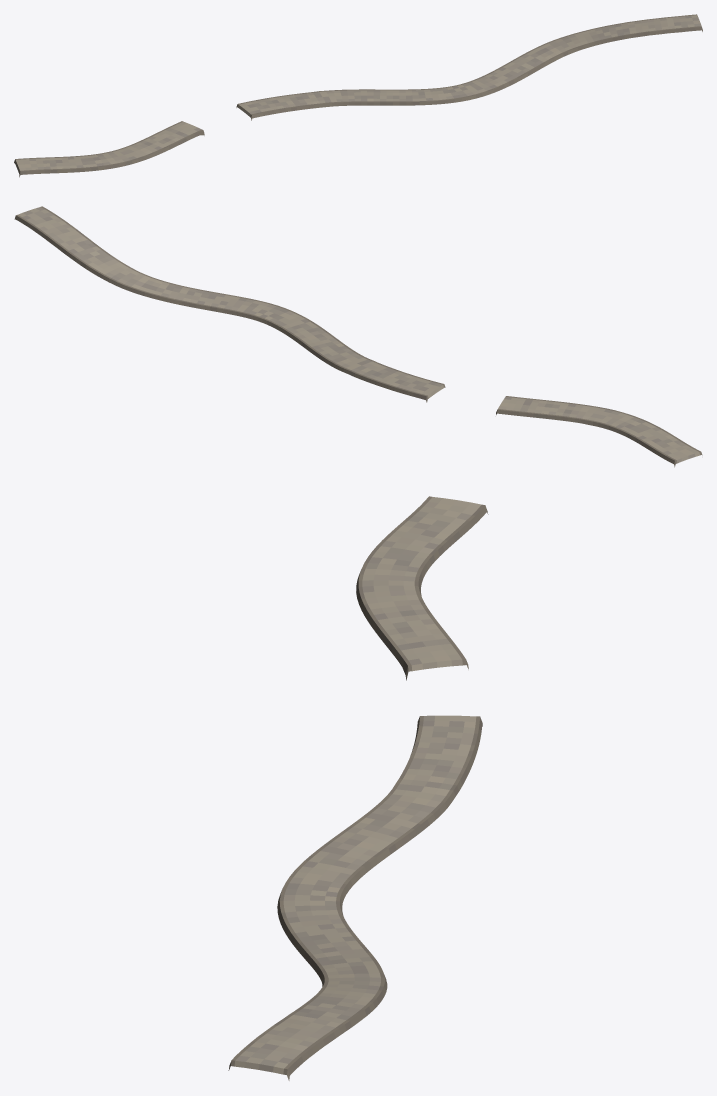
Rendered from road_east_road.glb.
3 renders of one model, top to bottom at view 1: azimuth 30°, elevation 25°; view 2: azimuth 150°, elevation 25°; view 3: azimuth 270°, elevation 25°, orthographic. The views are drawn at different scales.
Visible parts, largest first — view 1: road_east_road; view 2: road_east_road; view 3: road_east_road.
Part boxes in pixels (<box>): road_east_road: <box>14,14,702,177</box>; road_east_road: <box>14,206,702,467</box>; road_east_road: <box>228,496,488,1080</box>.
Size of the model in its own units: 346 by 16.6 by 60.48.
1 material, 1 textured.
